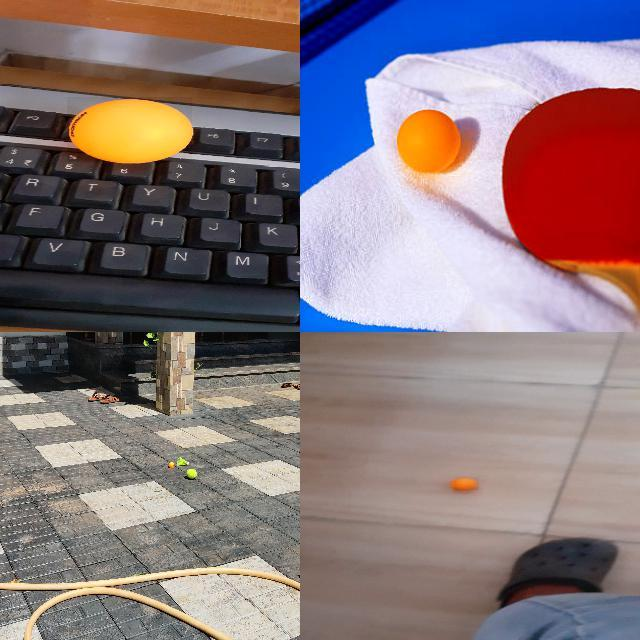ping-pong-ball: (67, 97, 193, 162), (394, 109, 460, 173), (454, 478, 480, 490), (168, 461, 174, 467)
